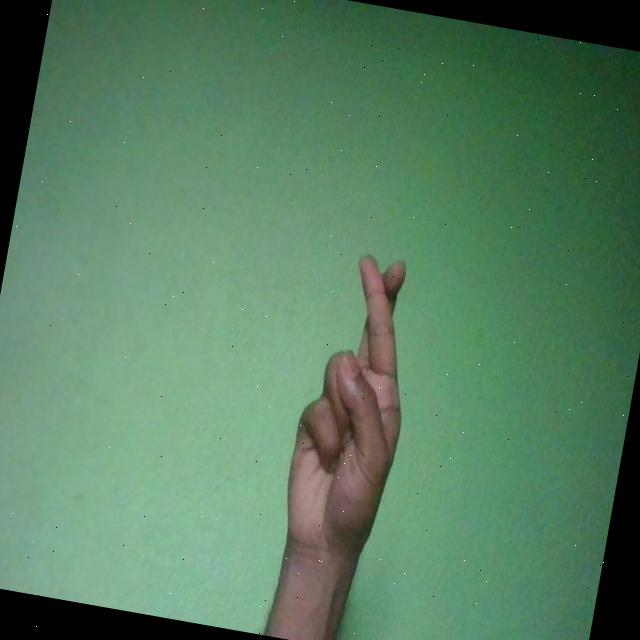Ok: (274, 243, 428, 570)
